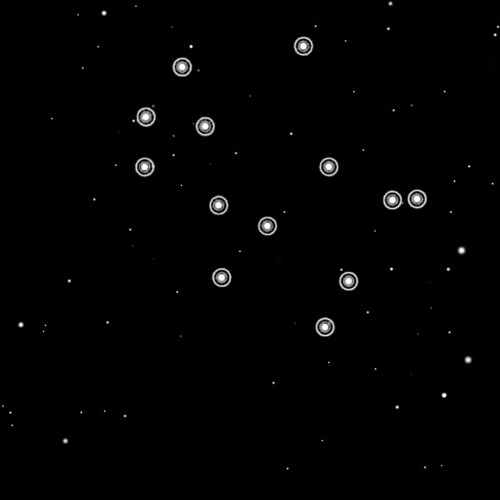gemini: (132, 31, 431, 343)
